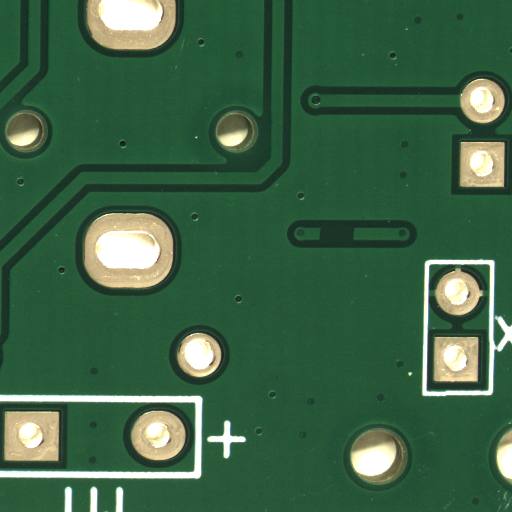Open_circuit: (336, 233, 372, 248)
